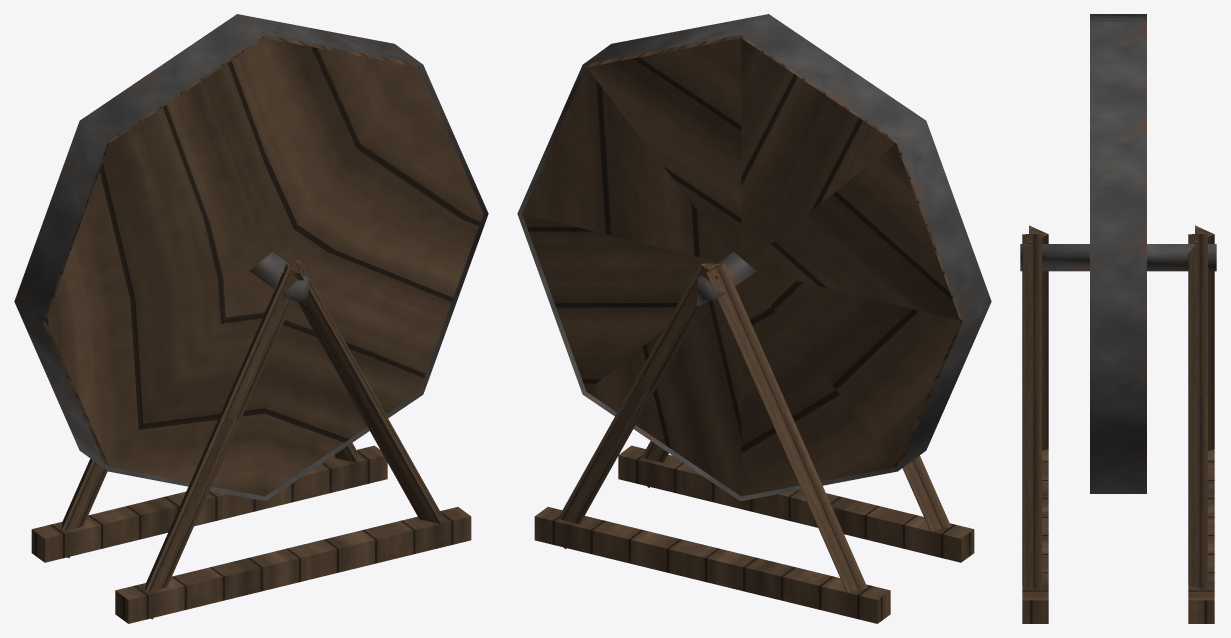
Rendered from Gear_Large_1_LOD2.gltf.
3 renders of one model, left to right at view 1: azimuth 30°, elevation 25°; view 2: azimuth 150°, elevation 25°; view 3: azimuth 270°, elevation 25°, orthographic.
Parts seen in each view (by area): view 1: Gear_Large_1_LOD2; view 2: Gear_Large_1_LOD2; view 3: Gear_Large_1_LOD2.
Part boxes in pixels (bbox=[...]): Gear_Large_1_LOD2: bbox=[14, 14, 488, 623]; Gear_Large_1_LOD2: bbox=[517, 14, 991, 623]; Gear_Large_1_LOD2: bbox=[1020, 14, 1216, 623].
Size of the model in its own units: 2.34 by 2.64 by 0.9.
2 materials, 2 textured.
